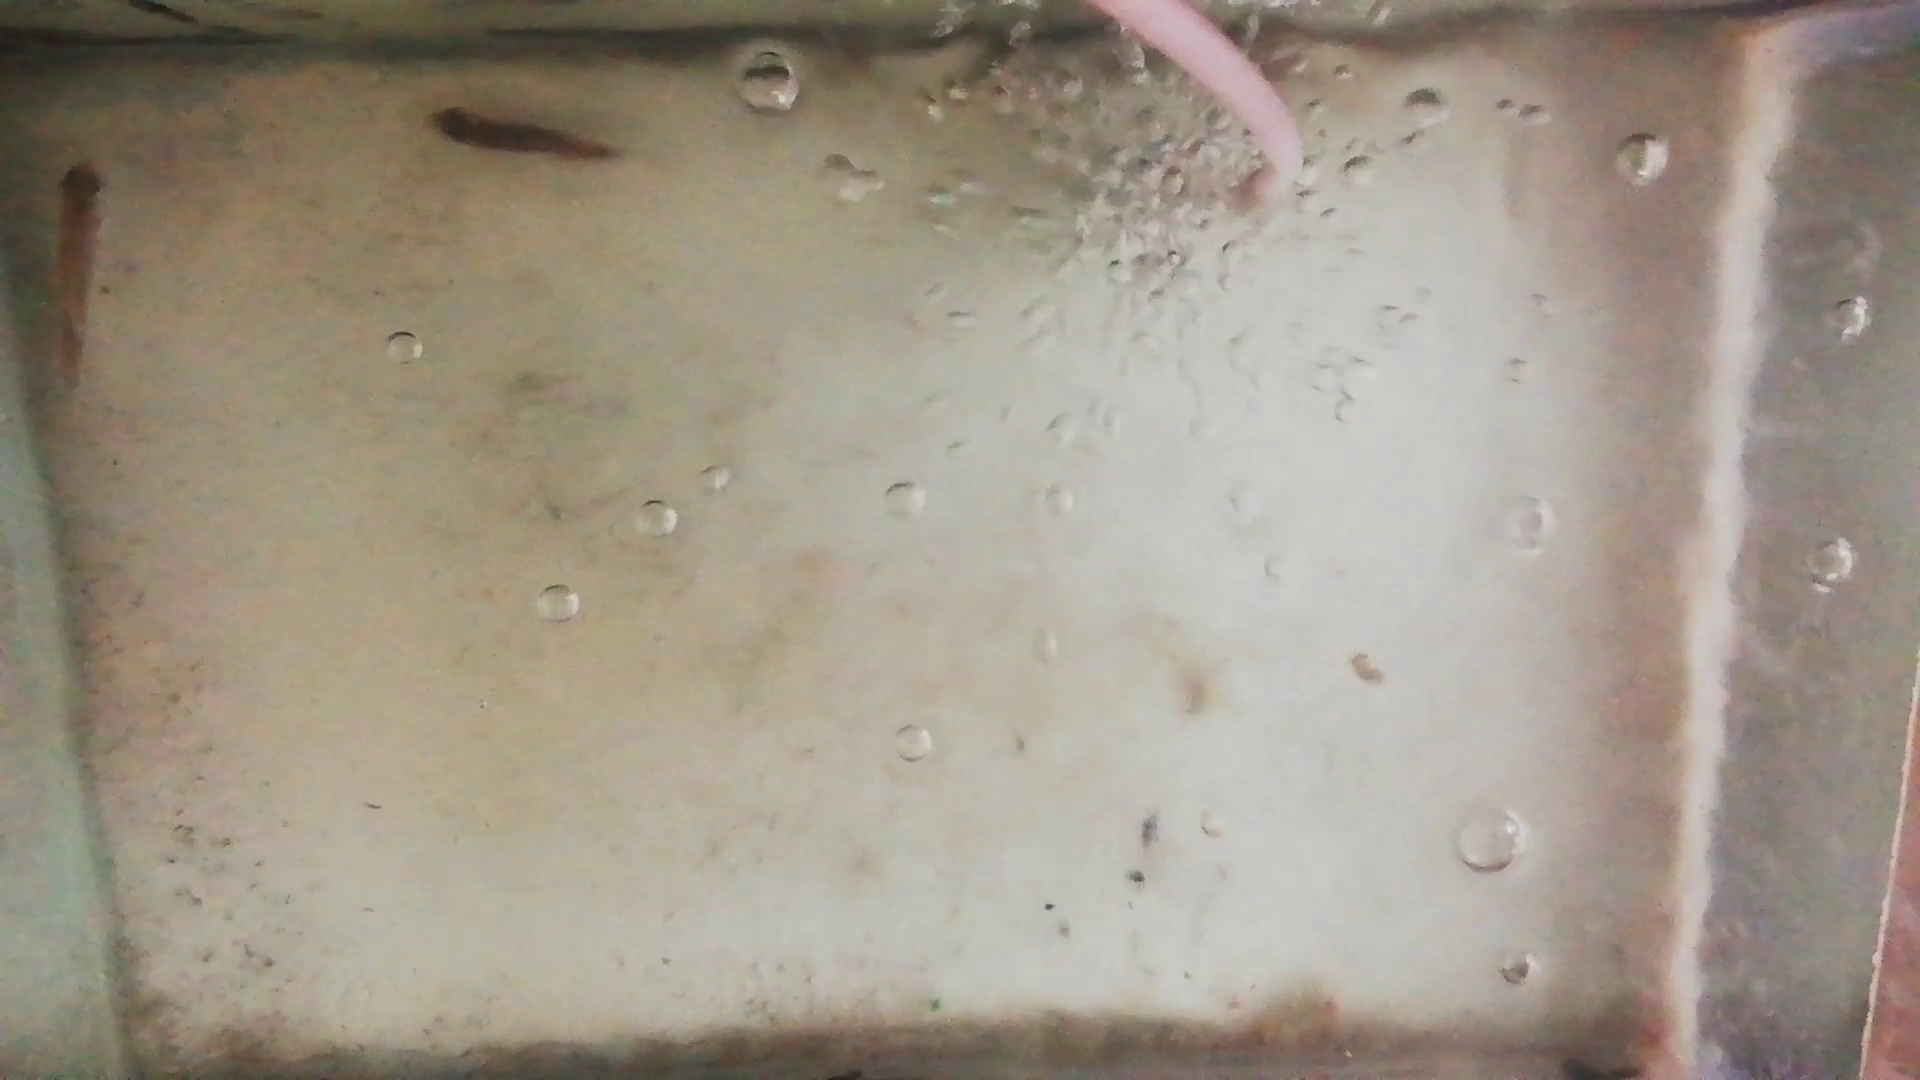fish: (54, 153, 107, 385), (422, 103, 626, 160)
